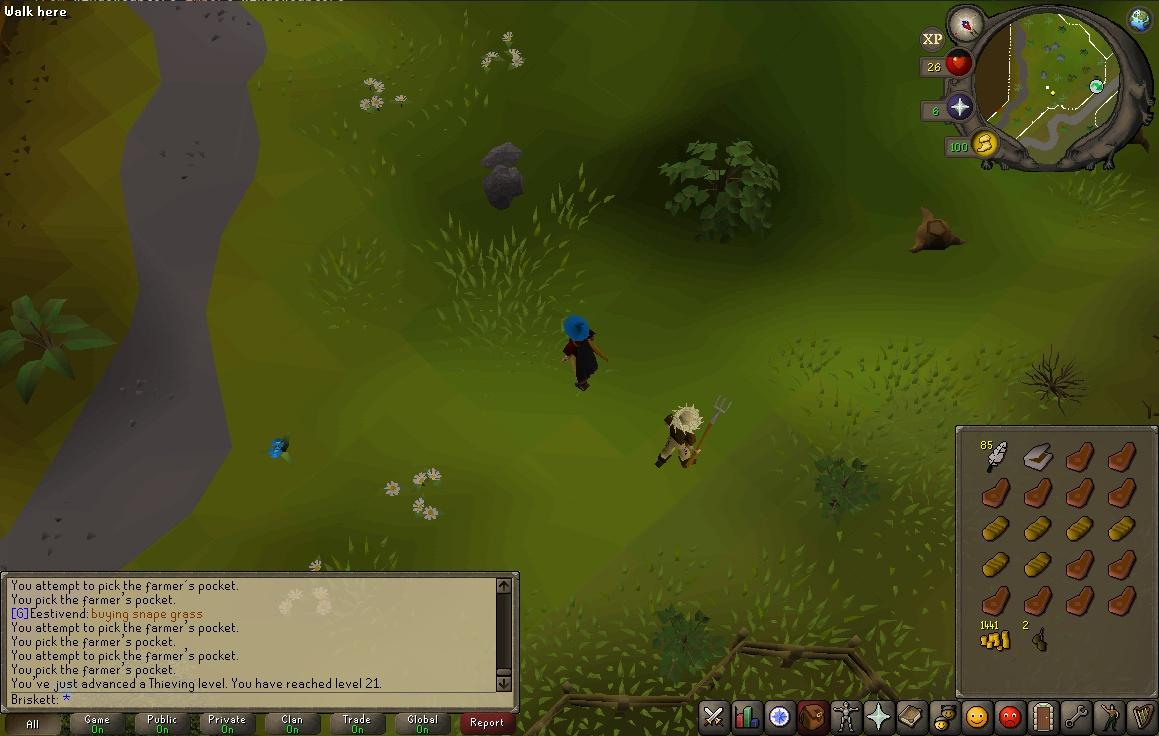Farmer: (654, 403, 704, 470)
